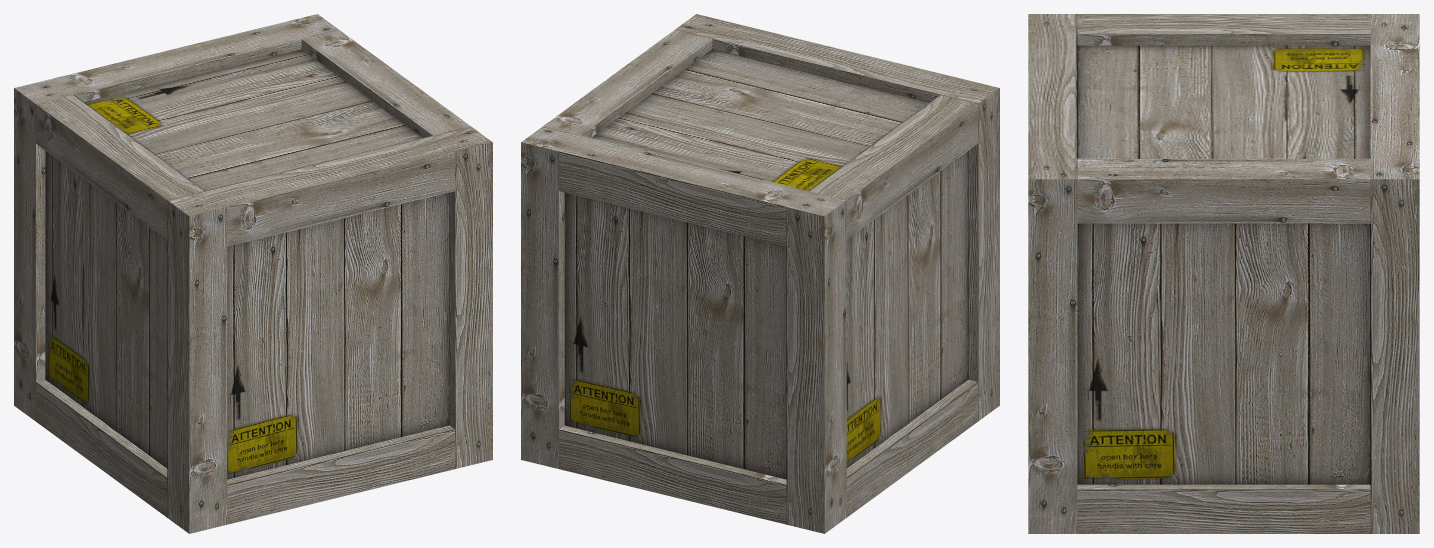
Rendered from woodb1.fbx.
The picture shows the model from 3 angles, left to right: view 1: azimuth 30°, elevation 25°; view 2: azimuth 150°, elevation 25°; view 3: azimuth 270°, elevation 25°; orthographic projection. The views are drawn at different scales.
Visible parts, largest first — view 1: woodb1_Layer1; view 2: woodb1_Layer1; view 3: woodb1_Layer1.
Part boxes in pixels (x1,y1,x2,y2): woodb1_Layer1: (14, 14, 492, 533); woodb1_Layer1: (521, 14, 999, 533); woodb1_Layer1: (1028, 14, 1419, 533).
Bounding box in the file's own units: 64 × 64 × 64.
Materials: 1 (1 with a texture image).
